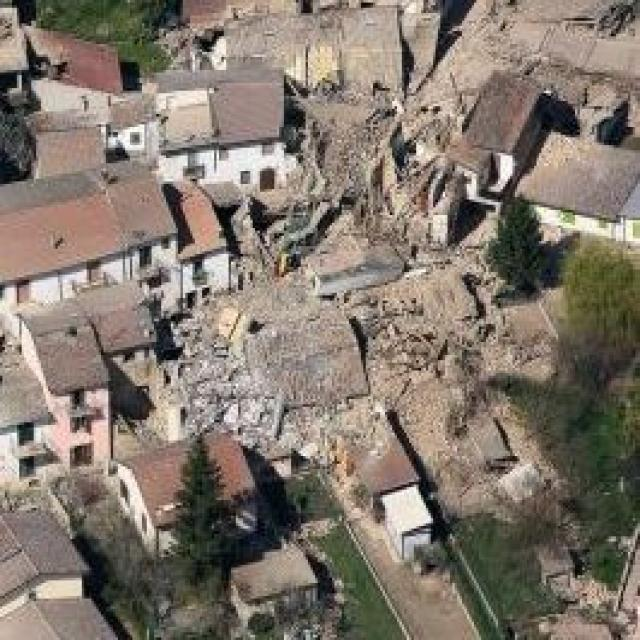collapsed_building: (180, 184, 486, 510)
